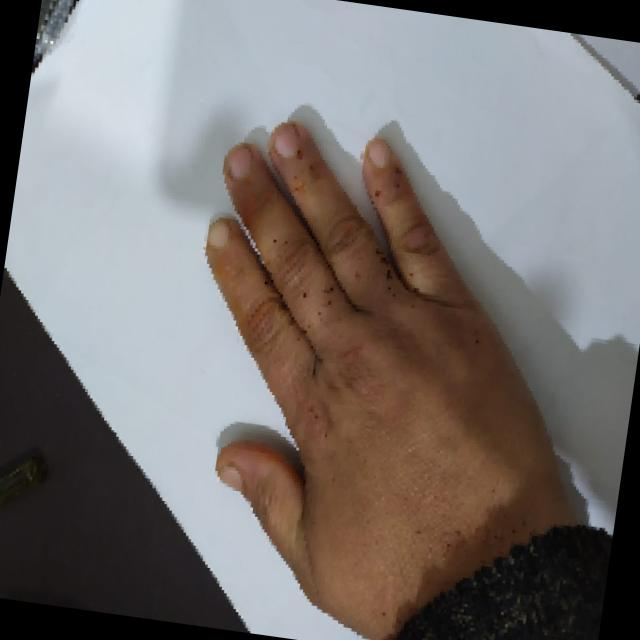Nail: (274, 125, 299, 157), (228, 146, 252, 178), (367, 138, 391, 168), (207, 218, 230, 248), (221, 463, 242, 491)
